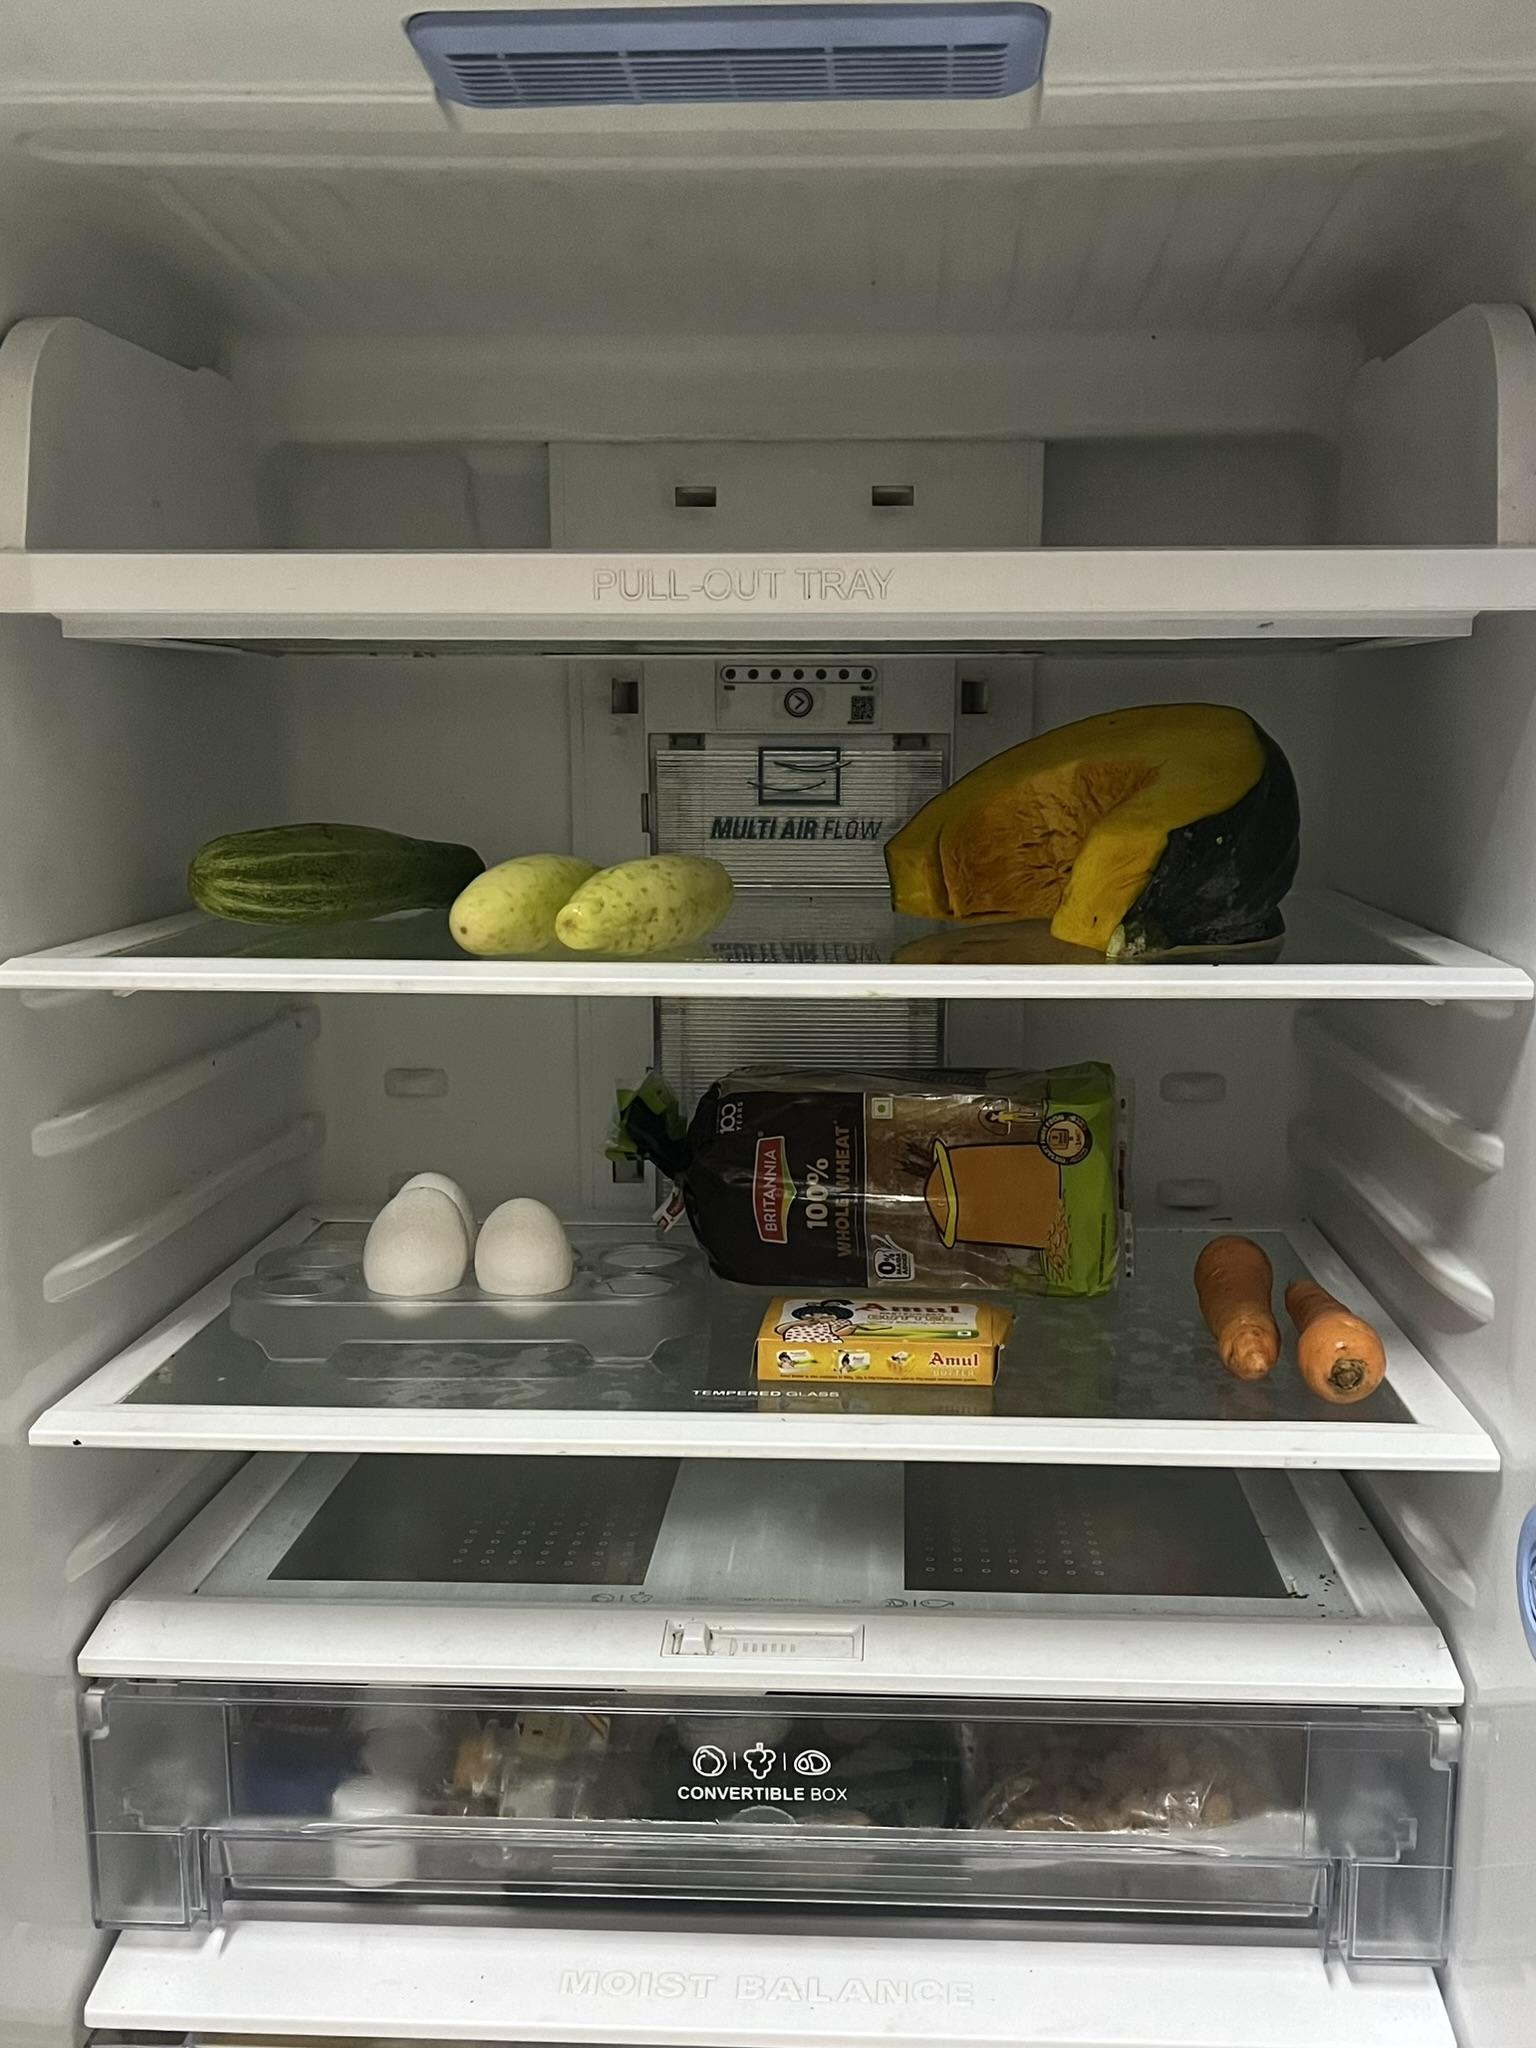bread: (637, 1050, 1133, 1300)
butter: (753, 1290, 1010, 1377)
carrots: (1200, 1221, 1273, 1387)
cucumber: (169, 824, 476, 921), (450, 853, 723, 959)
egg: (360, 1156, 466, 1316), (473, 1174, 579, 1303)
pumpkin: (873, 697, 1294, 953)
